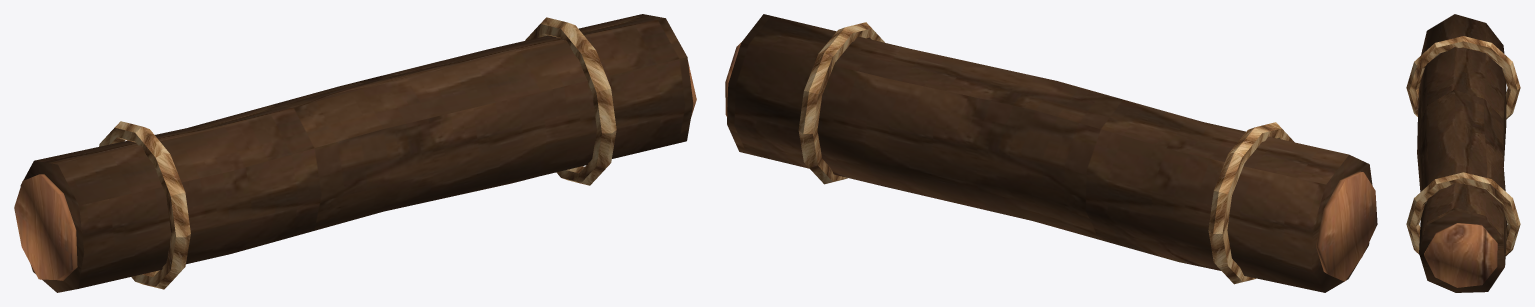
File: beam_1m.glb
The picture shows the model from 3 angles, left to right: view 1: azimuth 30°, elevation 25°; view 2: azimuth 150°, elevation 25°; view 3: azimuth 270°, elevation 25°; orthographic projection. The views are drawn at different scales.
Parts seen in each view (by area): view 1: model; view 2: model; view 3: model.
Boxes of the visible parts, x1,y1,x2,y2 form: model: [14, 14, 696, 292]; model: [725, 14, 1377, 292]; model: [1406, 14, 1520, 292].
Bounding box in the file's own units: 1.02 × 0.248 × 0.248.
4 materials, 4 textured.
